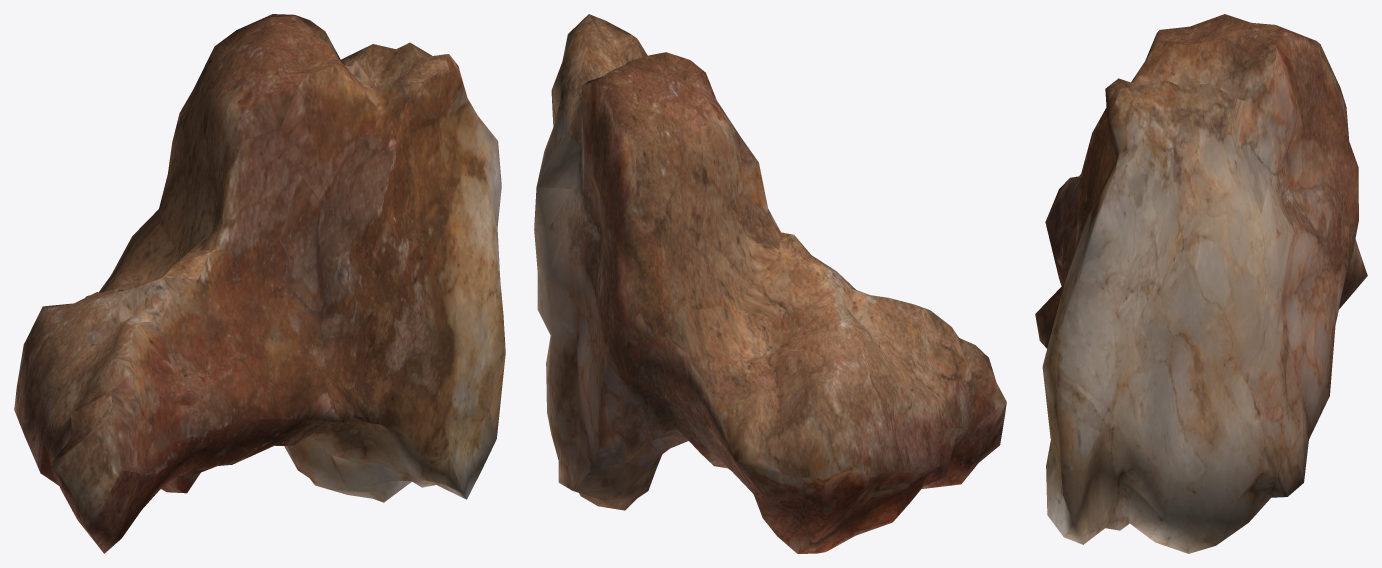
Rendered from stone_01_hi.glb.
3 views of the same model, side by side, from view 1: azimuth 30°, elevation 25°; view 2: azimuth 150°, elevation 25°; view 3: azimuth 270°, elevation 25° (orthographic). The views are drawn at different scales.
Visible parts, largest first — view 1: stone_01_hi; view 2: stone_01_hi; view 3: stone_01_hi.
Part boxes in pixels (box(x1,y1,x2,y2)): stone_01_hi: box(14, 14, 505, 553); stone_01_hi: box(534, 14, 1006, 553); stone_01_hi: box(1035, 14, 1367, 553).
Bounding box in the file's own units: 0.996 × 0.9953 × 0.5998.
1 material, 1 textured.
